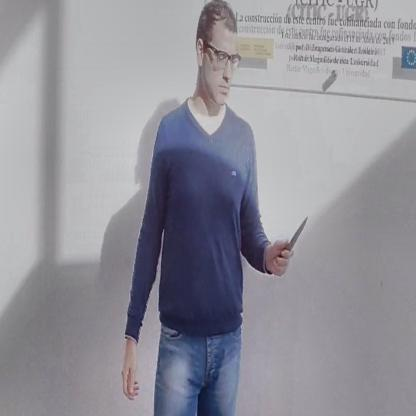knife: (274, 208, 312, 270)
